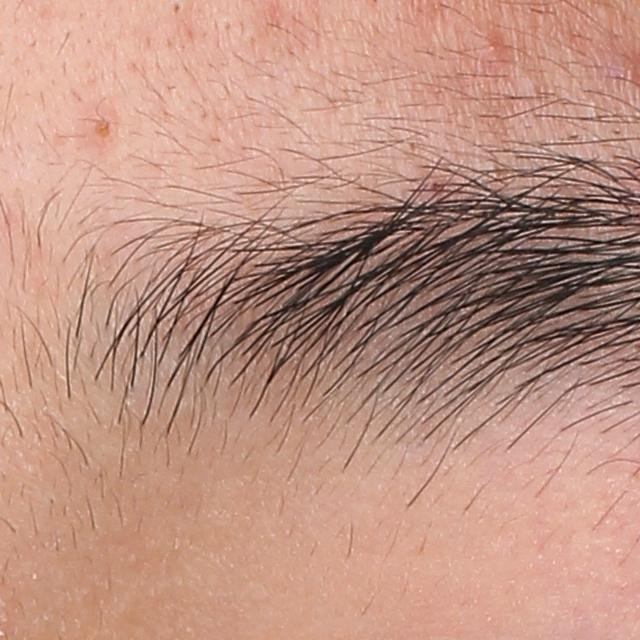comedo: (92, 116, 120, 139)
